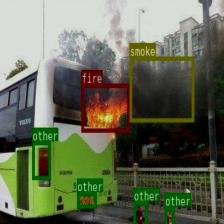fire: (81, 83, 129, 132)
smoke: (129, 55, 194, 122)
